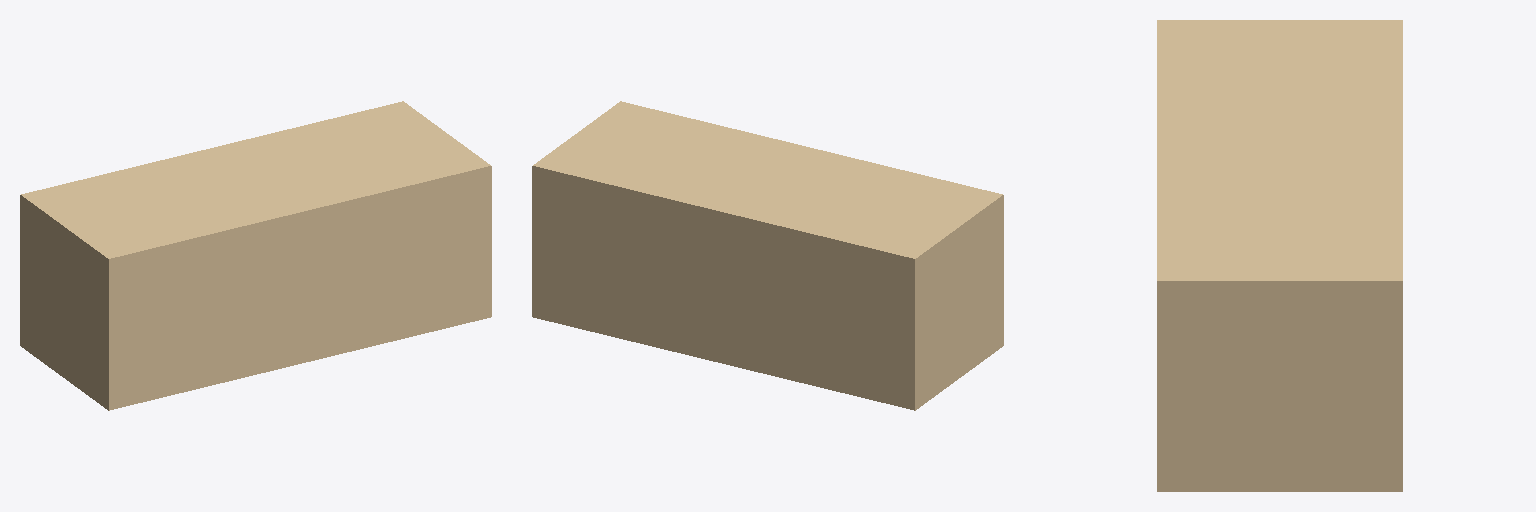
URDF robot description (model.urdf):
<?xml version="0.0" ?>
<robot name="model.urdf">

	<material name="dark_yellow">
		<color rgba="0.91 0.82 0.67 1"/>
	</material>

	<link name="baseLink">
		<inertial>
			<mass value="0.420"/>
			<inertia  ixx="0.0002316" ixy="0.00"  ixz="0.00" iyy="0.0008764" iyz="0.00" izz="0.0008885" />
		</inertial>
		<visual>
			<origin xyz="0 0 0" rpy="0 0 0"/>
			<geometry>
				<box size="0.148 0.059 0.056"/>
			</geometry>
			<material name="dark_yellow"/>
		</visual>
		<collision>
			<origin xyz="0 0 0" rpy="0 0 0"/>
			<geometry>
				<box size="0.148 0.059 0.056"/>
			</geometry>
		</collision>
	</link>
</robot>

--- Facts derived from the render (not from the file) ---
Views: 3 orthographic renders of the robot side by side, from view 1: azimuth 30°, elevation 25°; view 2: azimuth 150°, elevation 25°; view 3: azimuth 270°, elevation 25°.
Robot: model.urdf — 1 links, 0 joints (none); root link baseLink; default pose: all joints at 0.
Links seen in each view (by area): view 1: baseLink; view 2: baseLink; view 3: baseLink.
Link boxes in pixels (left/top/right/bottom): baseLink: left=20, top=101, right=491, bottom=410; baseLink: left=532, top=101, right=1003, bottom=410; baseLink: left=1157, top=20, right=1402, bottom=491.
Size in the robot's own frame: 0.148 by 0.059 by 0.056 metres.
Geometry: primitives only (box / cylinder / sphere), no mesh files.